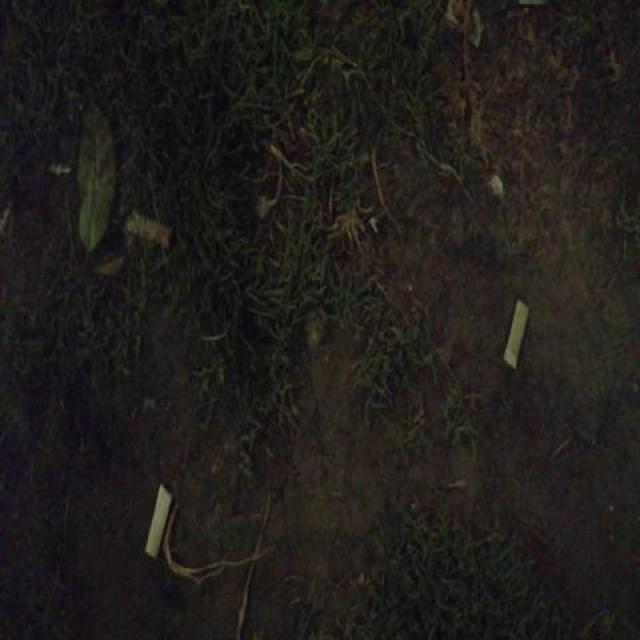non-organic waste: (119, 205, 178, 255), (143, 479, 176, 564), (502, 294, 534, 374)
